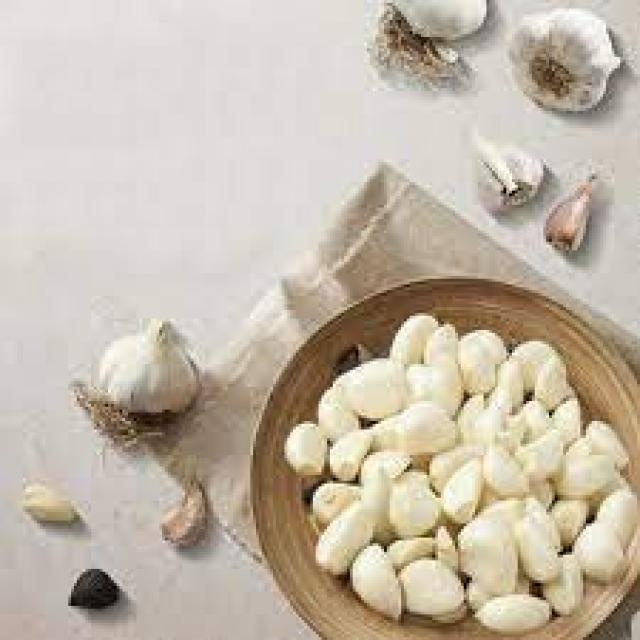Garlic bulb: (319, 446, 506, 594), (469, 427, 623, 580), (330, 355, 464, 478)
